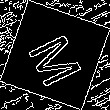M_NE: (22, 23, 88, 87)
